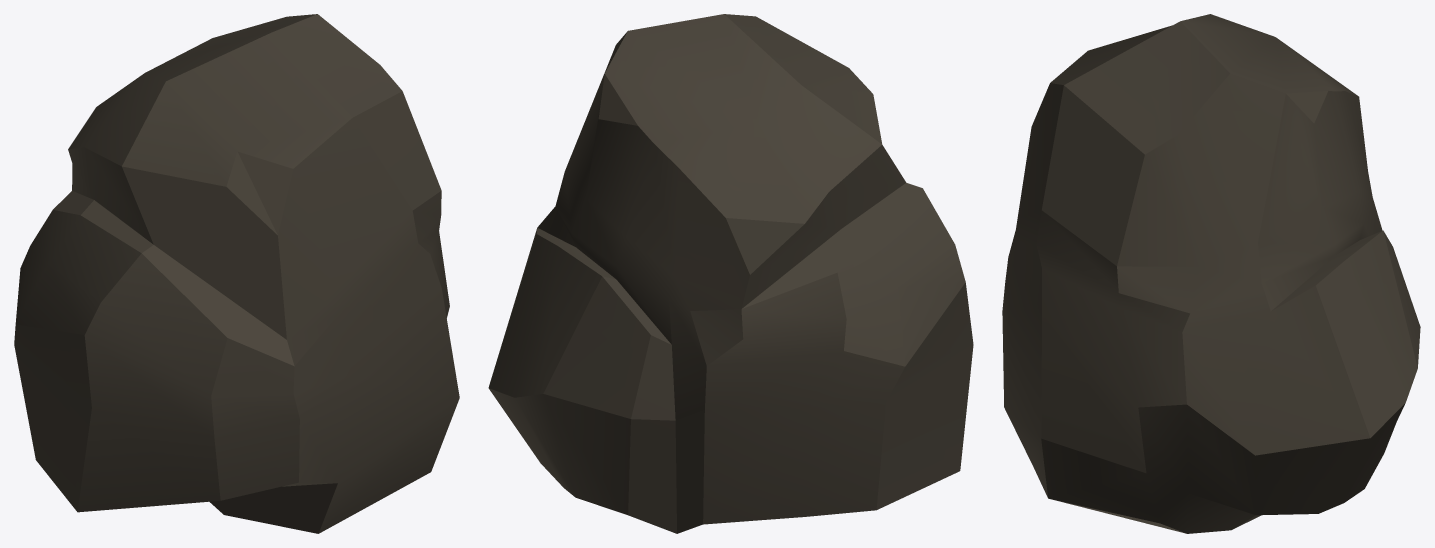
File: Rock_1.obj
3 views of the same model, side by side, from view 1: azimuth 30°, elevation 25°; view 2: azimuth 150°, elevation 25°; view 3: azimuth 270°, elevation 25° (orthographic). The views are drawn at different scales.
Parts seen in each view (by area): view 1: Rock_1_Cube.015; view 2: Rock_1_Cube.015; view 3: Rock_1_Cube.015.
Boxes of the visible parts, bbox=[...] form: Rock_1_Cube.015: bbox=[14, 14, 459, 533]; Rock_1_Cube.015: bbox=[488, 14, 973, 533]; Rock_1_Cube.015: bbox=[1002, 14, 1420, 533].
Bounding box in the file's own units: 3.1 × 3.61 × 2.83.
1 material, 1 textured.
